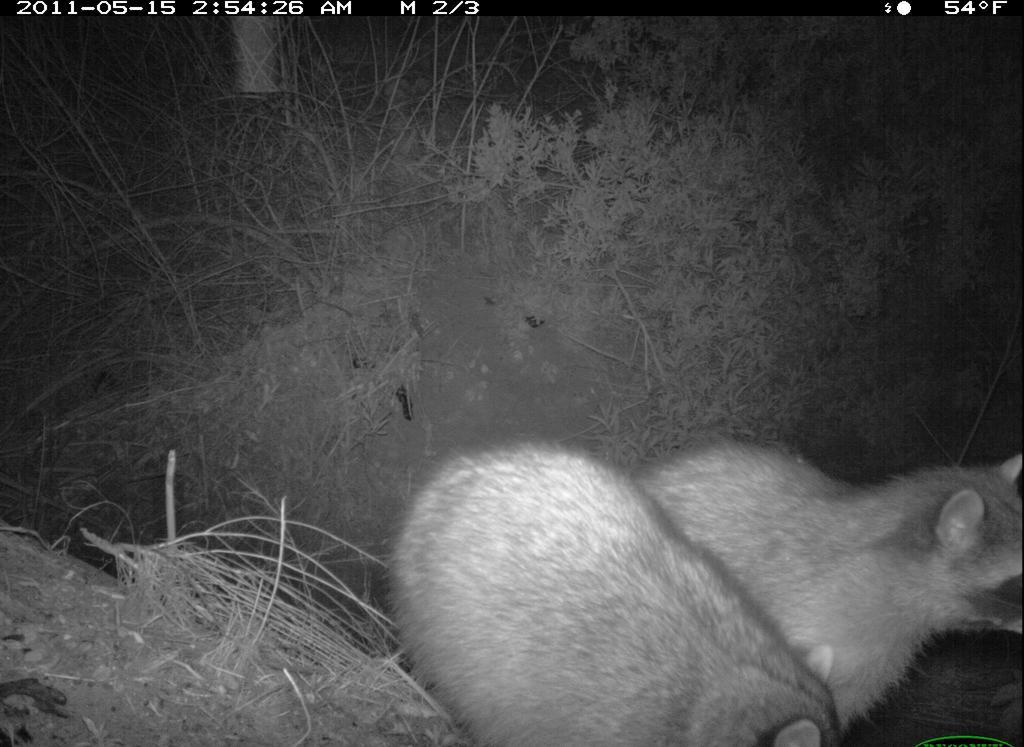raccoon: (345, 413, 865, 745), (639, 420, 1021, 722)
